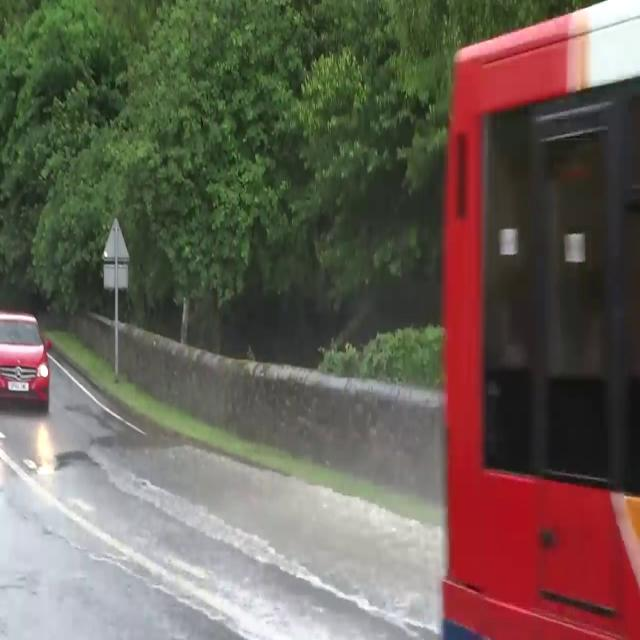license-plate-annotation: (7, 377, 30, 394)
